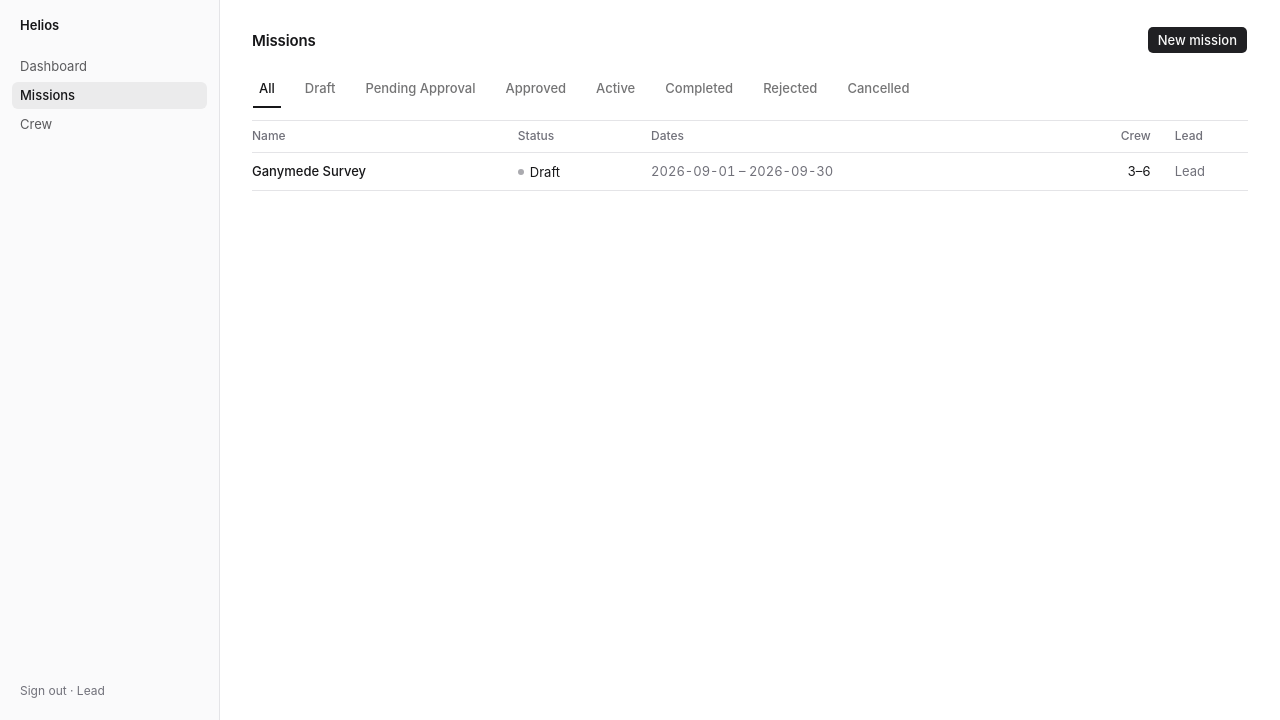
Scenario: missions list › shows a validation error on the right field when creating a mission fails
Click the button "New mission" at coordinates (1197, 40), box [1147,26,1248,54]
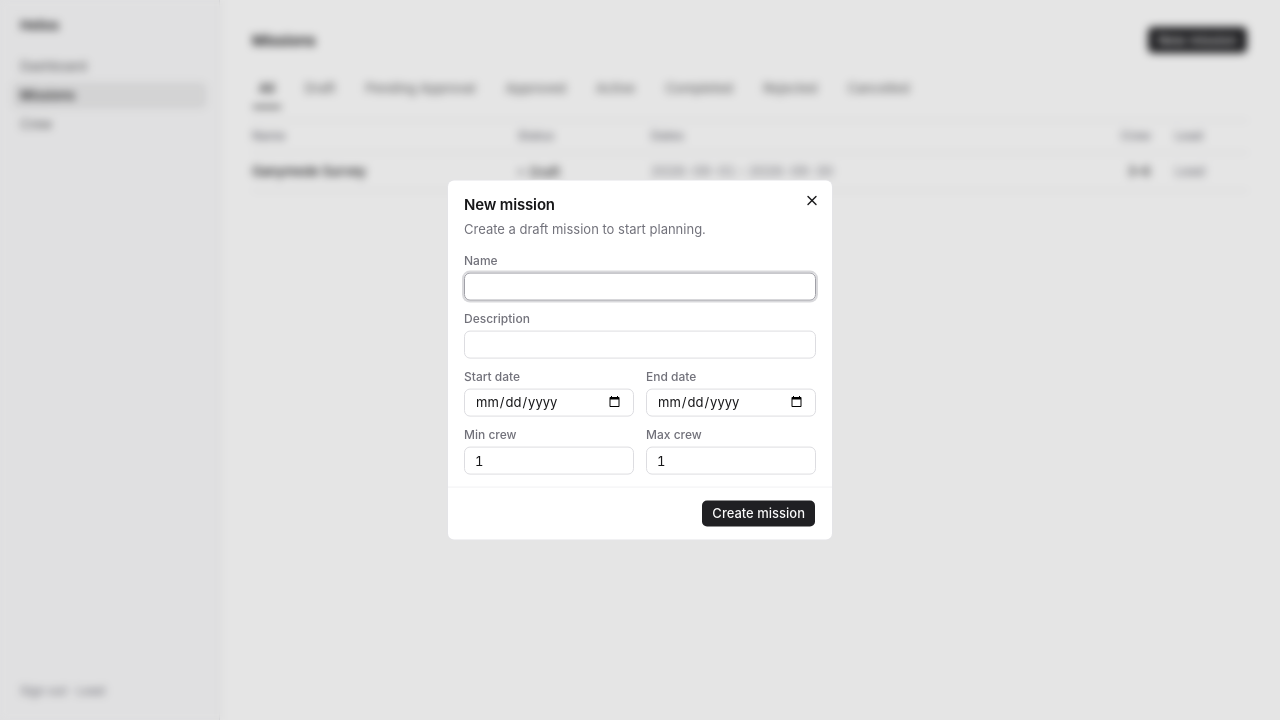
Type "Ganymede Survey" into the field labelled "Name" at coordinates (640, 286), box [464,272,816,300]
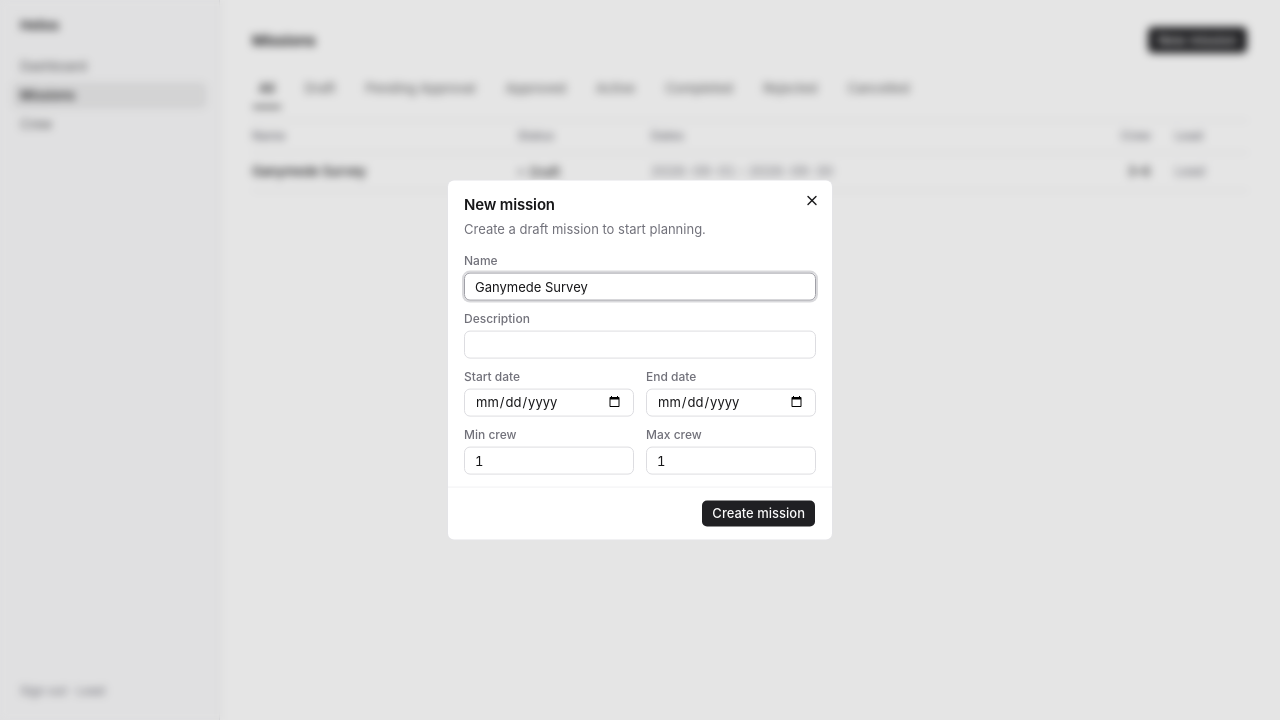
Type "2026-10-01" into the date field labelled "Start date" at coordinates (549, 402), box [464,388,634,416]
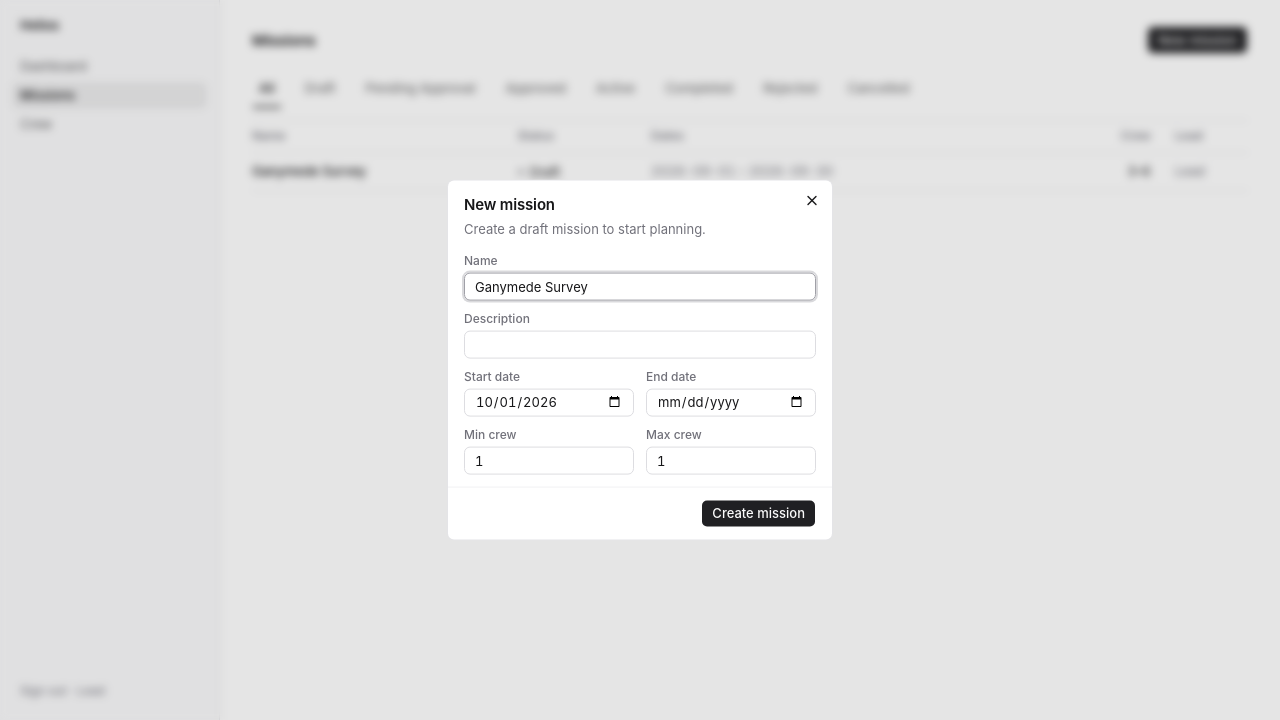
Type "2026-10-15" into the date field labelled "End date" at coordinates (731, 402), box [646,388,816,416]
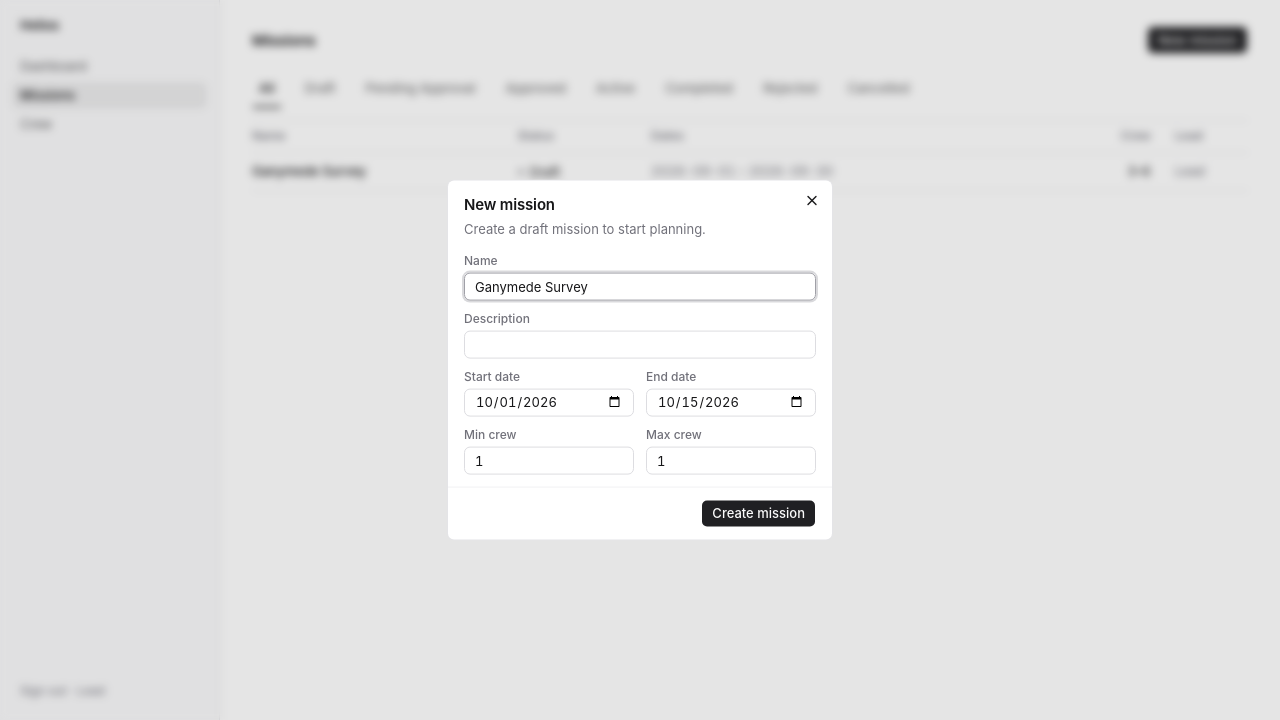
Click the button "Create mission" at coordinates (759, 513), box [701,499,816,527]
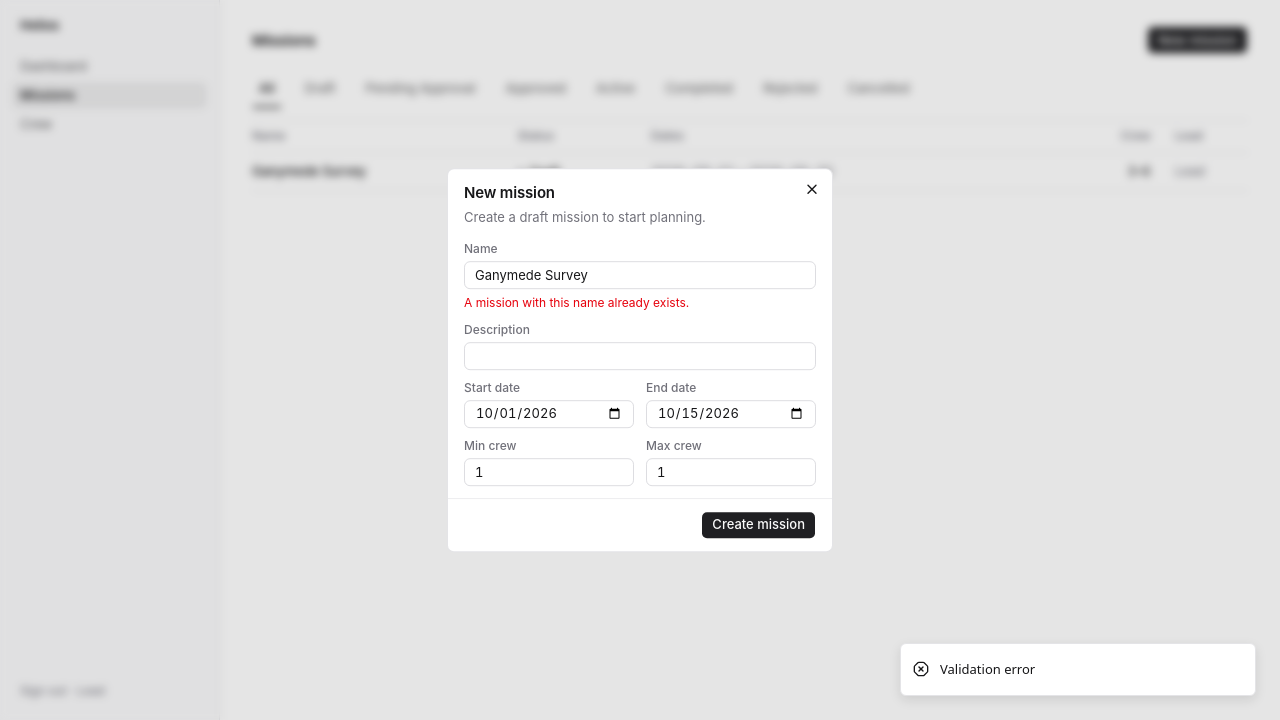
Check: the text "A mission with this name already exists." is shown, box [464,295,689,310]
Check: the text "Validation error" is shown, box [940,660,1035,679]
